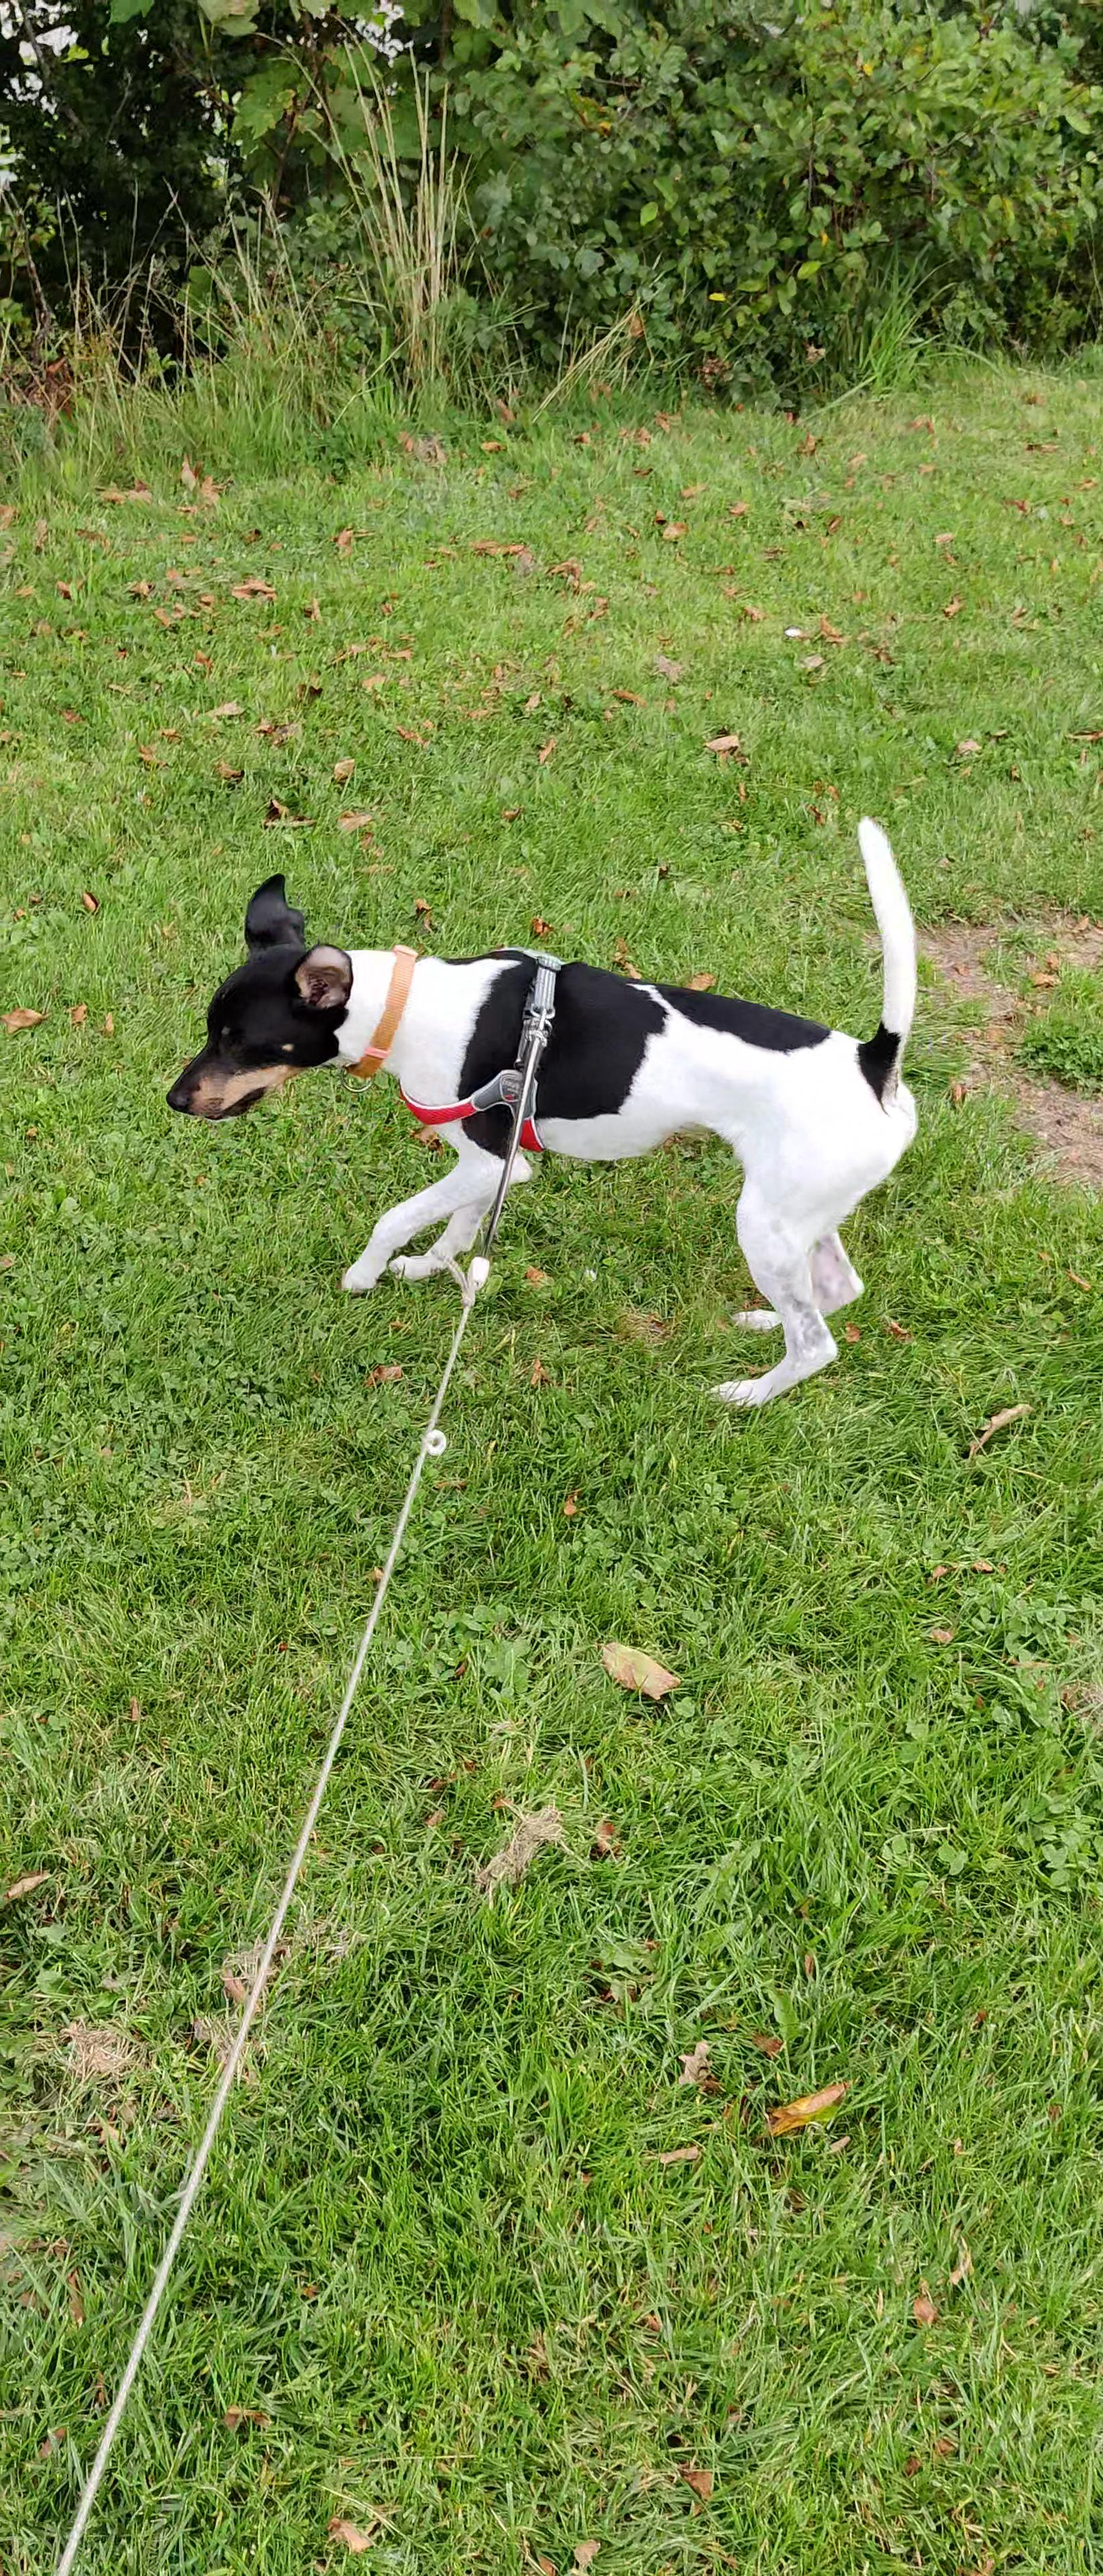Dog: (141, 756, 937, 1437)
